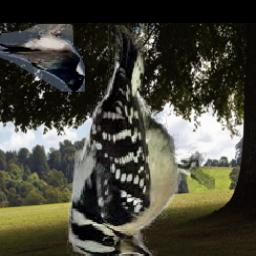Swallow: (0, 24, 85, 92)
Woodpecker: (64, 26, 215, 256)
